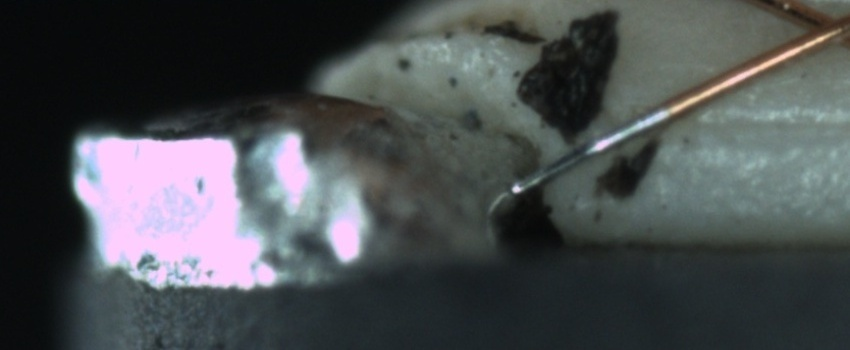CL: (779, 2, 849, 57)
DL: (682, 90, 847, 162)
TS: (506, 106, 668, 199)
